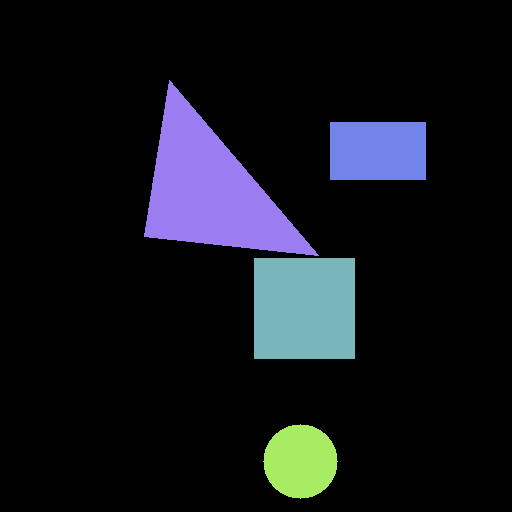circle: (263, 424, 337, 498)
rectangle: (330, 122, 425, 179)
square: (254, 258, 354, 358)
triangle: (144, 80, 318, 255)
